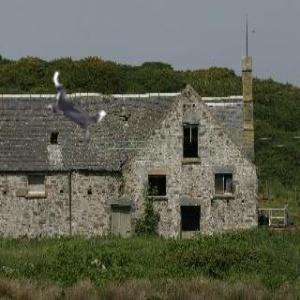drone: (34, 75, 117, 158)
